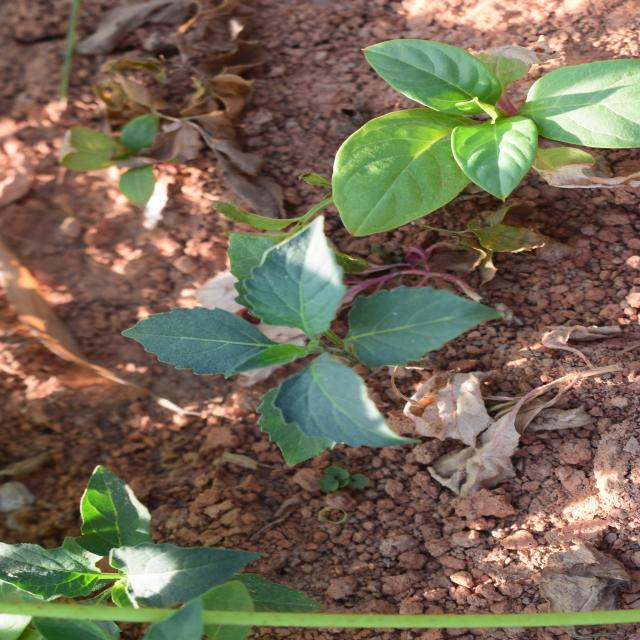Black_nightshade: (188, 146, 402, 511), (29, 0, 167, 253)
